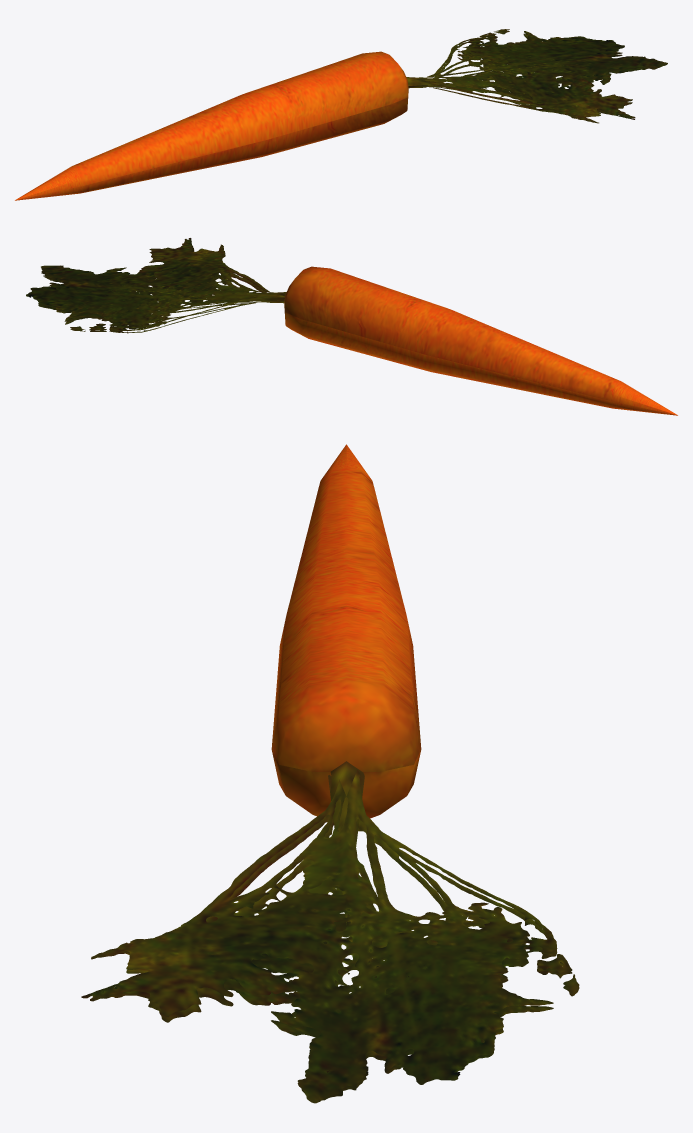
Rendered from carrot.obj.
The picture shows the model from 3 angles, top to bottom: view 1: azimuth 30°, elevation 25°; view 2: azimuth 150°, elevation 25°; view 3: azimuth 270°, elevation 25°; orthographic projection. The views are drawn at different scales.
Visible parts, largest first — view 1: skin; view 2: skin; view 3: skin.
Boxes of the visible parts, left/top/right/bottom form: skin: left=15, top=29, right=667, bottom=200; skin: left=26, top=238, right=677, bottom=415; skin: left=81, top=444, right=579, bottom=1103.
Bounding box in the file's own units: 7.33 × 0.7648 × 2.68.
1 material, 1 textured.
